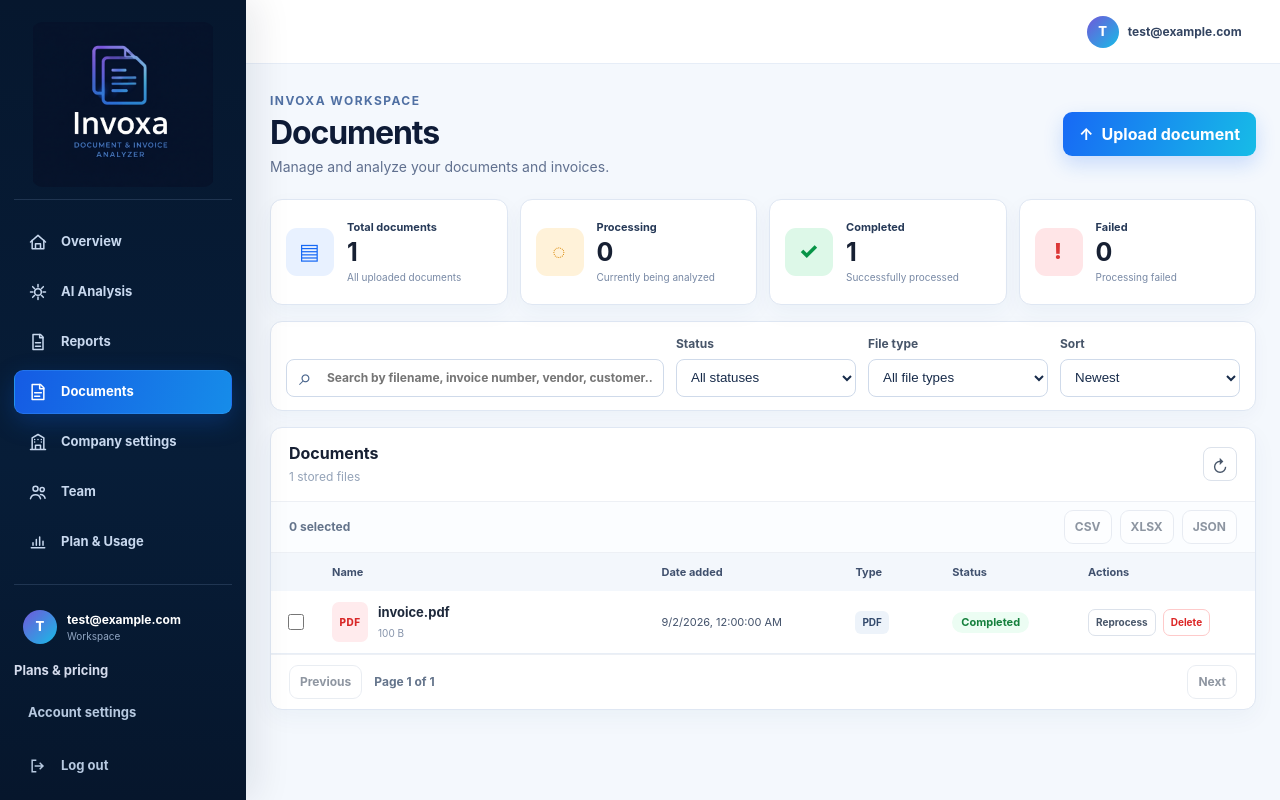
Phase 9A commercial workspace › uses an accessible custom delete dialog with cancel and Escape without deleting
This screenshot has width=1280, height=800.
(page scrolled)
Click the button "Delete". click: (1186, 622)
box: [1163, 609, 1210, 636]
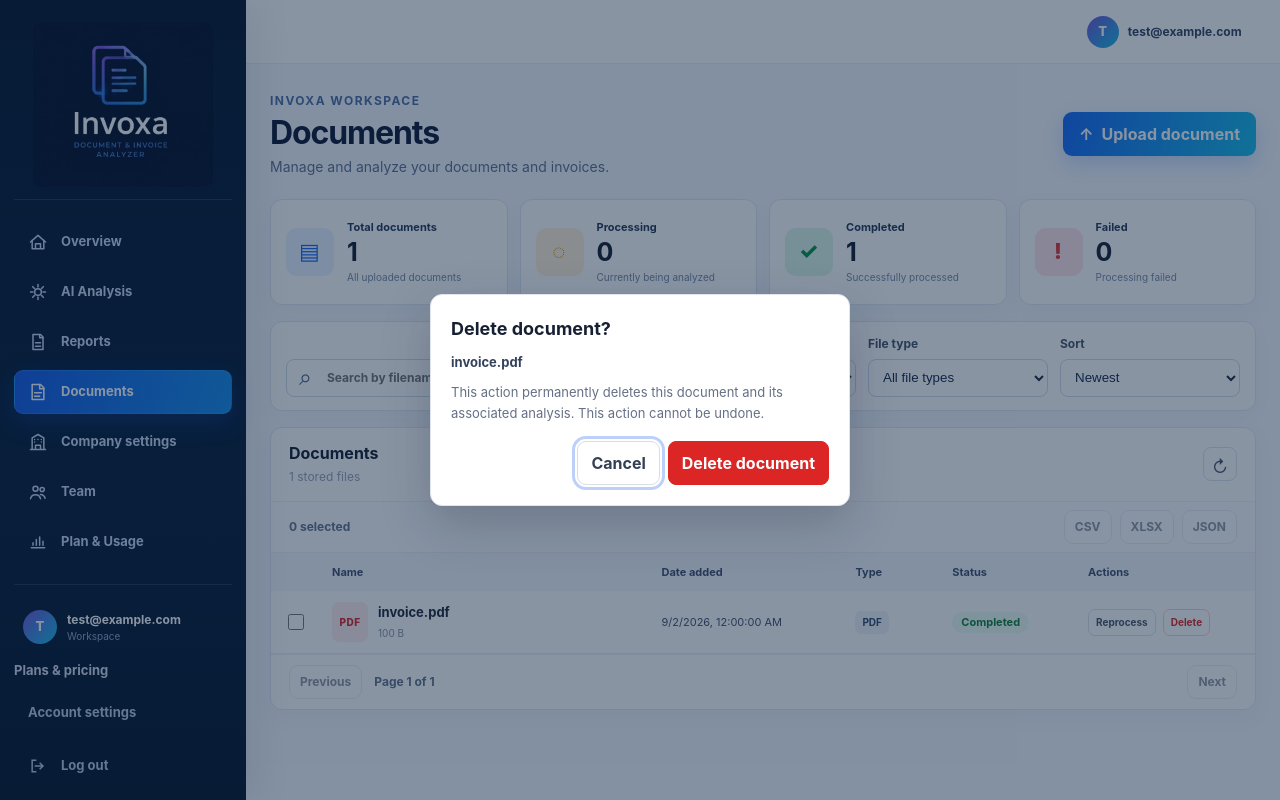
Now the dialog "Delete document?" shows "invoice.pdf", box [451, 354, 523, 370]
Click the button "Cancel". click: (619, 463)
box: [577, 441, 660, 485]
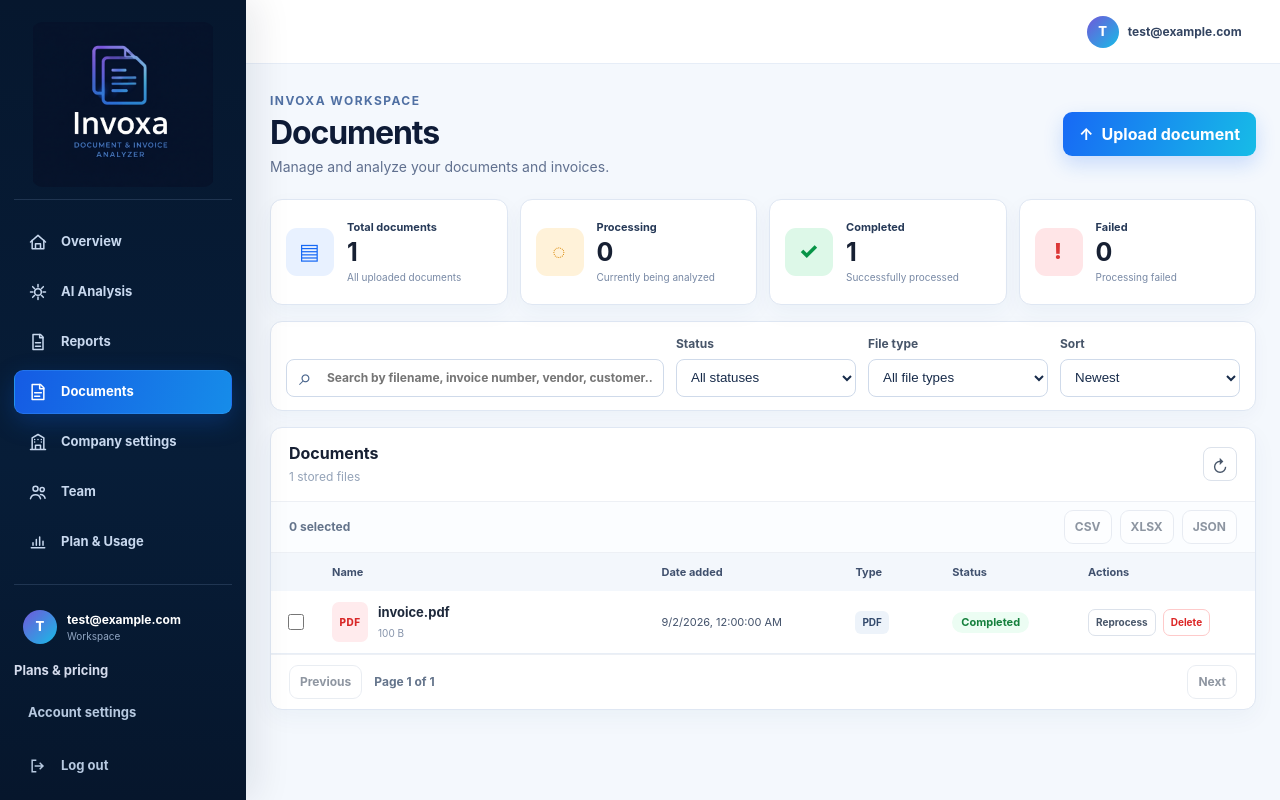
Now the dialog is gone
Click the button "Delete". click: (1186, 622)
box: [1163, 609, 1210, 636]
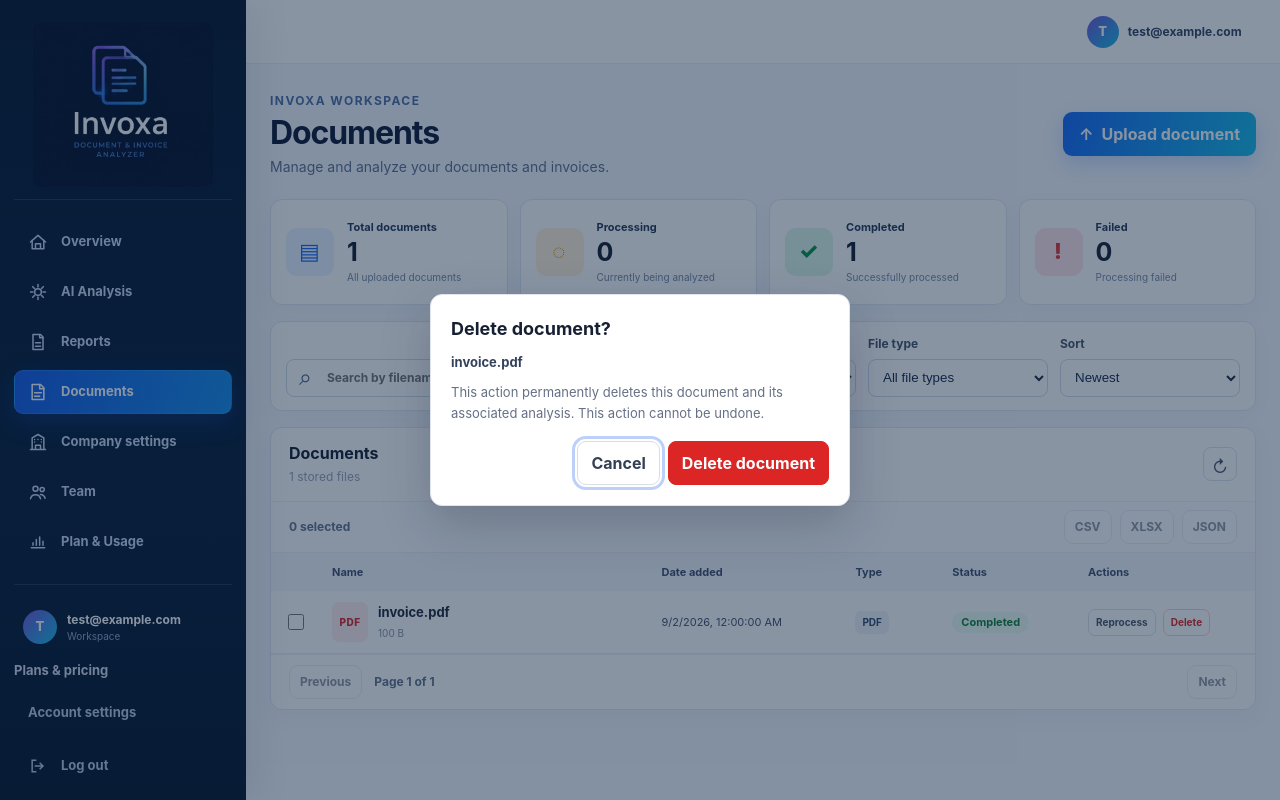
Press Escape in the dialog, box [430, 294, 850, 506]
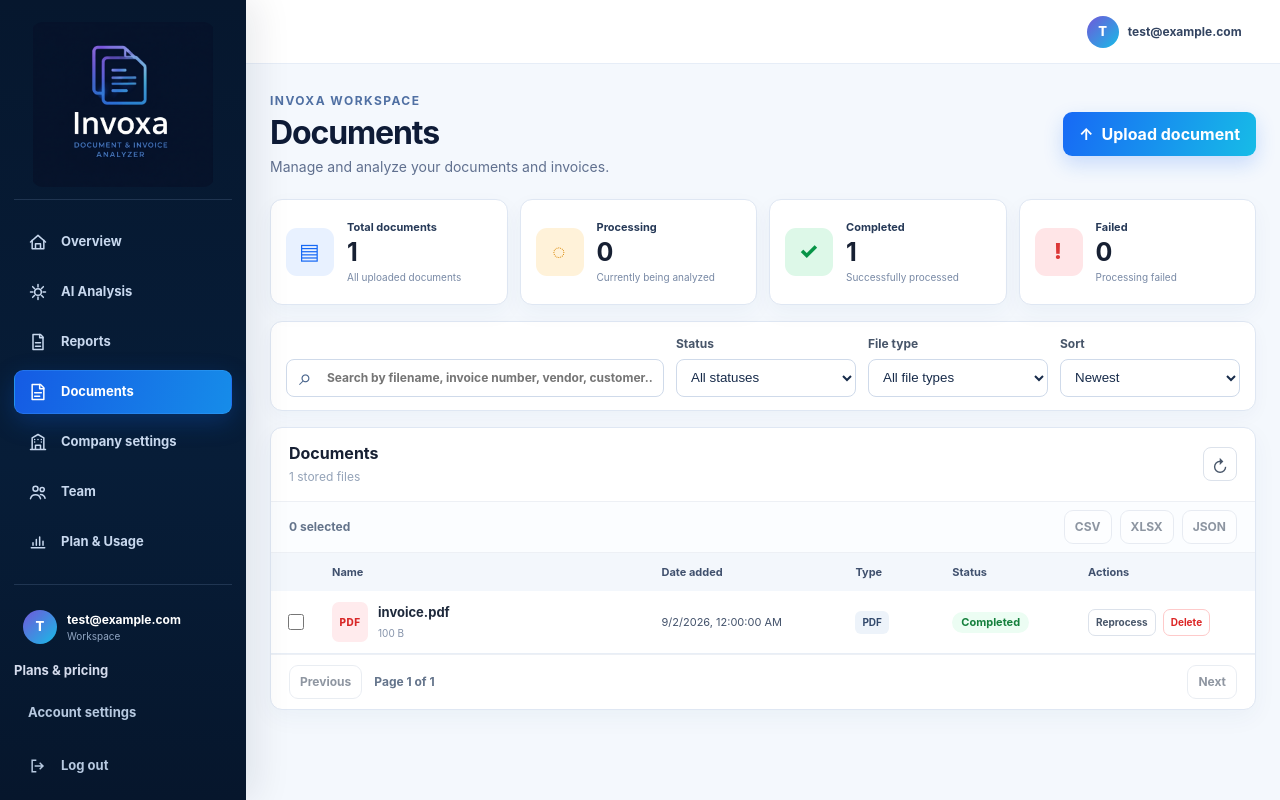
Now the dialog is gone
